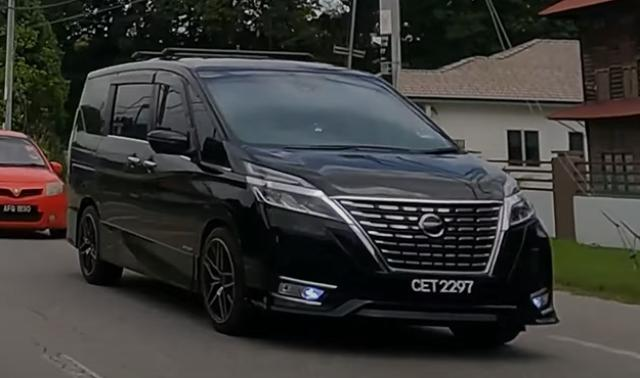License_Plate: (409, 280, 478, 298)
car: (65, 51, 561, 347), (2, 130, 69, 239)
